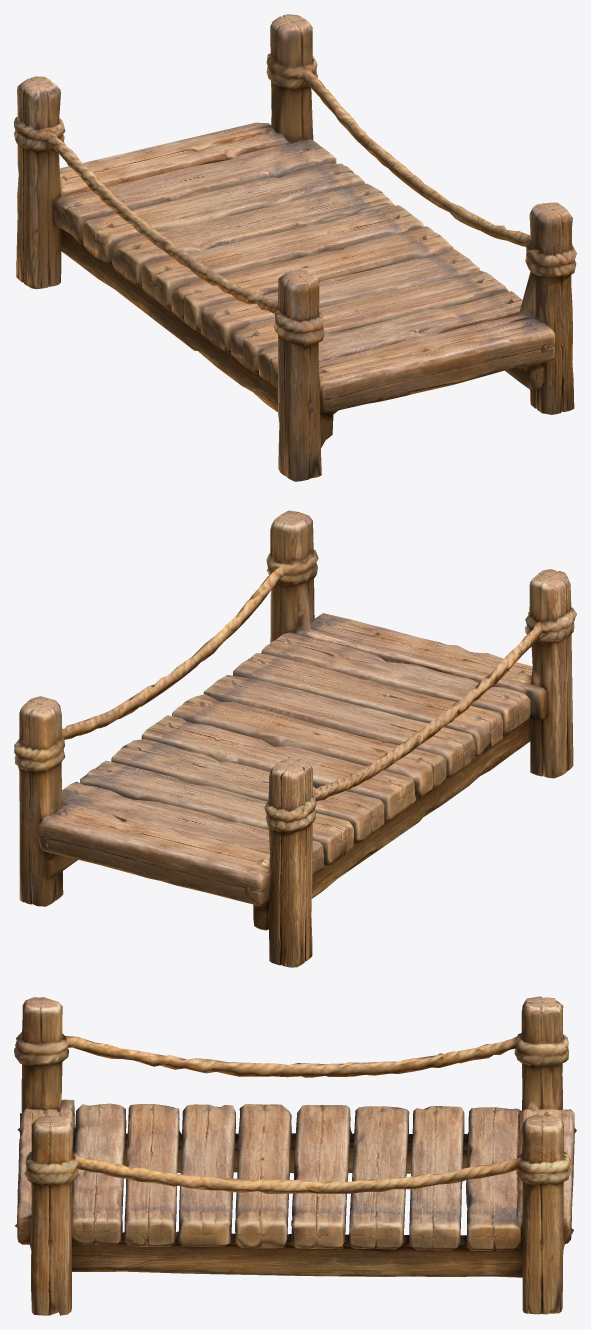
File: boardwalk-v1.glb
3 views of the same model, one above another, from view 1: azimuth 30°, elevation 25°; view 2: azimuth 150°, elevation 25°; view 3: azimuth 270°, elevation 25° (orthographic). The views are drawn at different scales.
Parts seen in each view (by area): view 1: boardwalk; view 2: boardwalk; view 3: boardwalk.
Part boxes in pixels (x1=…): boardwalk: x1=14, y1=14, x2=576, y2=481; boardwalk: x1=14, y1=510, x2=576, y2=967; boardwalk: x1=14, y1=996, x2=576, y2=1315.
Bounding box in the file's own units: 1.4 × 0.88 × 2.4.
1 material, 1 textured.
